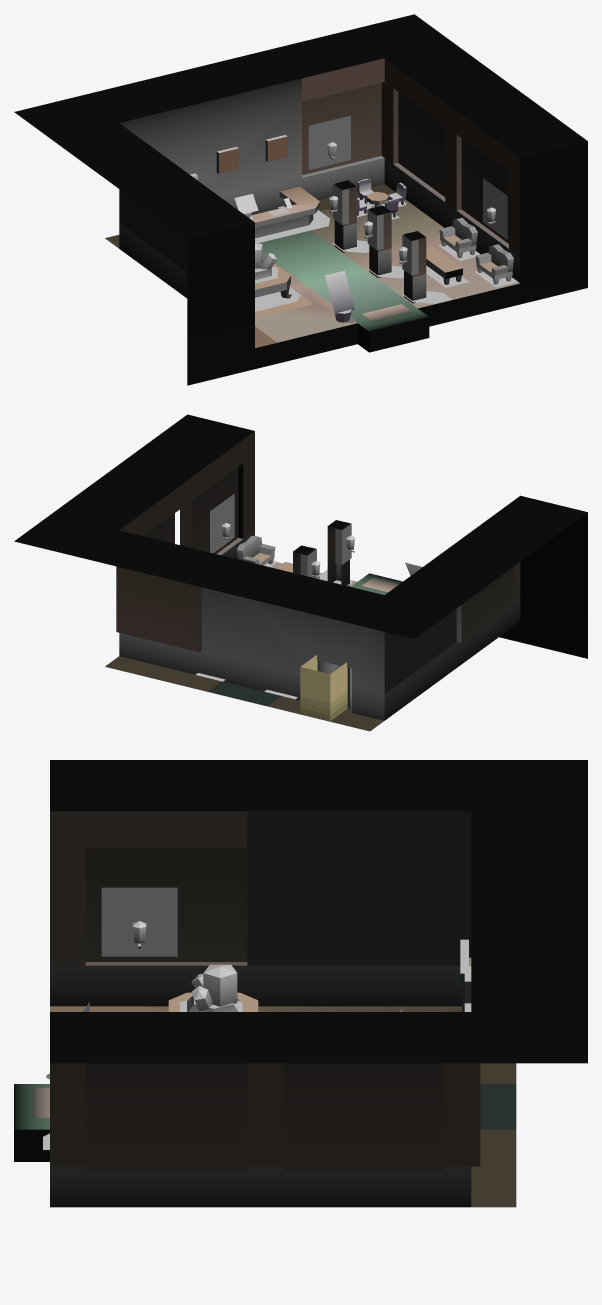
File: driftveil_hotel_room_1.obj
3 renders of one model, top to bottom at view 1: azimuth 30°, elevation 25°; view 2: azimuth 150°, elevation 25°; view 3: azimuth 270°, elevation 25°, orthographic. The views are drawn at different scales.
Bounding box in the file's own units: 416 × 146 × 333.
